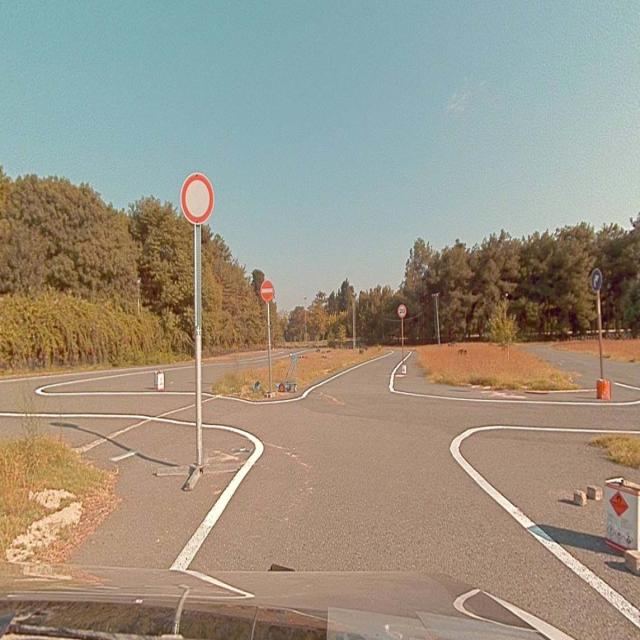20: (398, 305, 406, 317)
girisyok: (261, 281, 274, 301)
sag: (592, 269, 601, 290)
